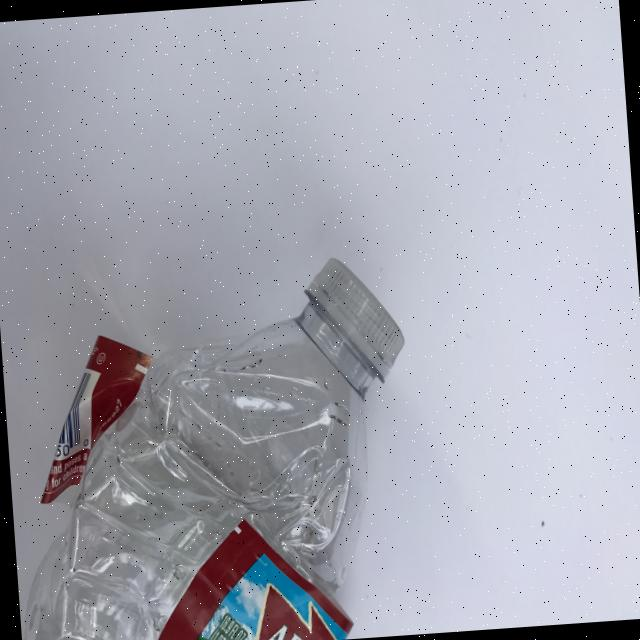plastic: (0, 250, 424, 640)
